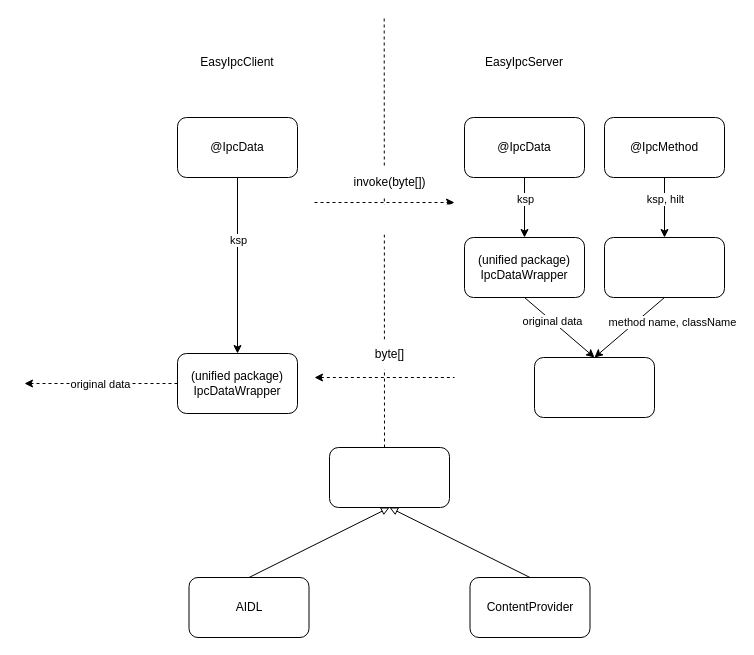
Image size: 754x655. Some labels were removed from this diagram. The shapes that lost their labels are listed below. From the top down, each one's centre as x and y in pixels, then its label:
At (x=389, y=219): "asyncInvoke(byte[], callback)".
At (x=664, y=267): "MethodRegistry, Hilt DI Module".
At (x=594, y=387): "Reflection dispatch invoke/asyncInvoke".
At (x=389, y=477): "EasyIPC".
